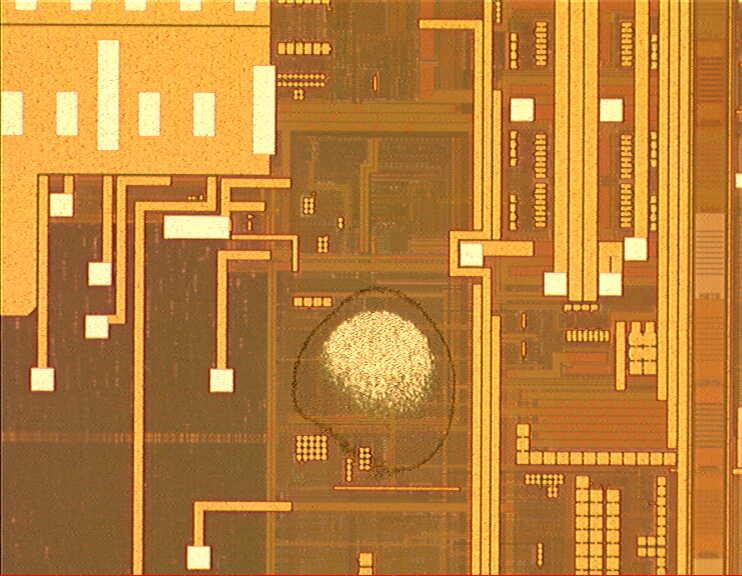BLOCK ETCH: (291, 286, 458, 475)
